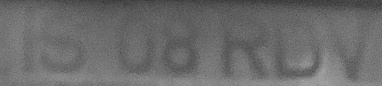0: (114, 9, 156, 79)
8: (161, 8, 201, 81)
D: (270, 7, 324, 81)
I: (16, 2, 40, 83)
R: (218, 8, 272, 83)
S: (41, 4, 91, 78)
V: (324, 6, 379, 86)
